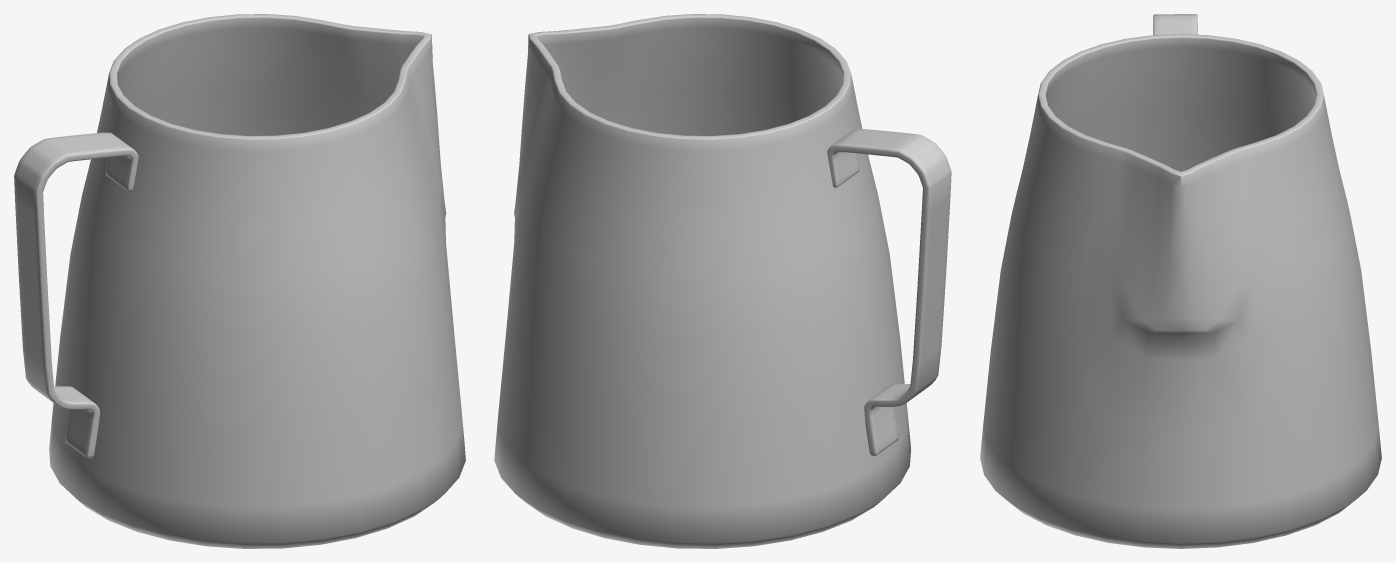
The model's file is canarian_cafe_-_milk_jug.glb.
3 views of the same model, side by side, from view 1: azimuth 30°, elevation 25°; view 2: azimuth 150°, elevation 25°; view 3: azimuth 270°, elevation 25° (orthographic). The views are drawn at different scales.
Parts seen in each view (by area): view 1: MILK_JUG_1; view 2: MILK_JUG_1; view 3: MILK_JUG_1.
Part boxes in pixels (box(x1,y1,x2,y2)): MILK_JUG_1: box(14, 14, 465, 548); MILK_JUG_1: box(494, 14, 951, 548); MILK_JUG_1: box(980, 14, 1381, 548).
Bounding box in the file's own units: 2.05 × 1.87 × 1.78.
1 material, 1 textured.
